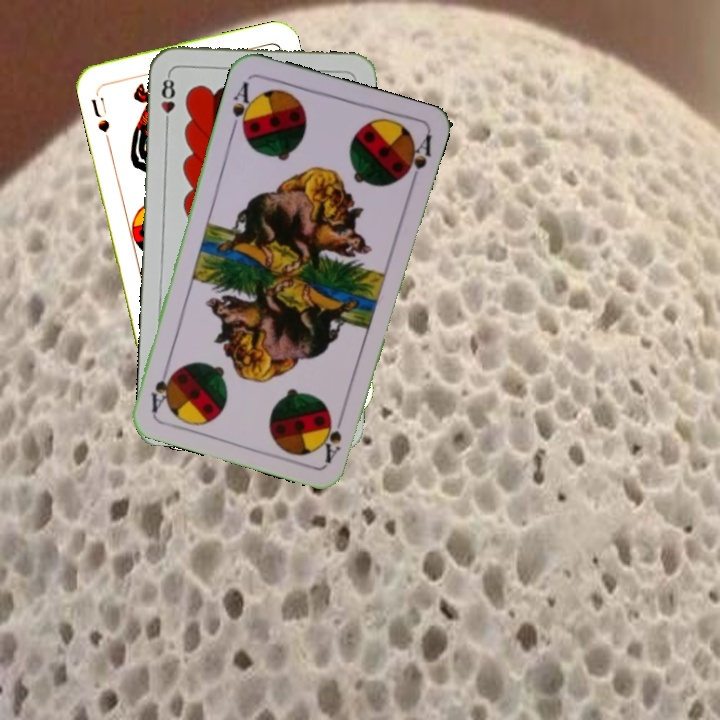H8: (157, 70, 178, 130)
SA: (227, 78, 257, 136), (318, 407, 347, 465)
SU: (87, 85, 112, 144)
